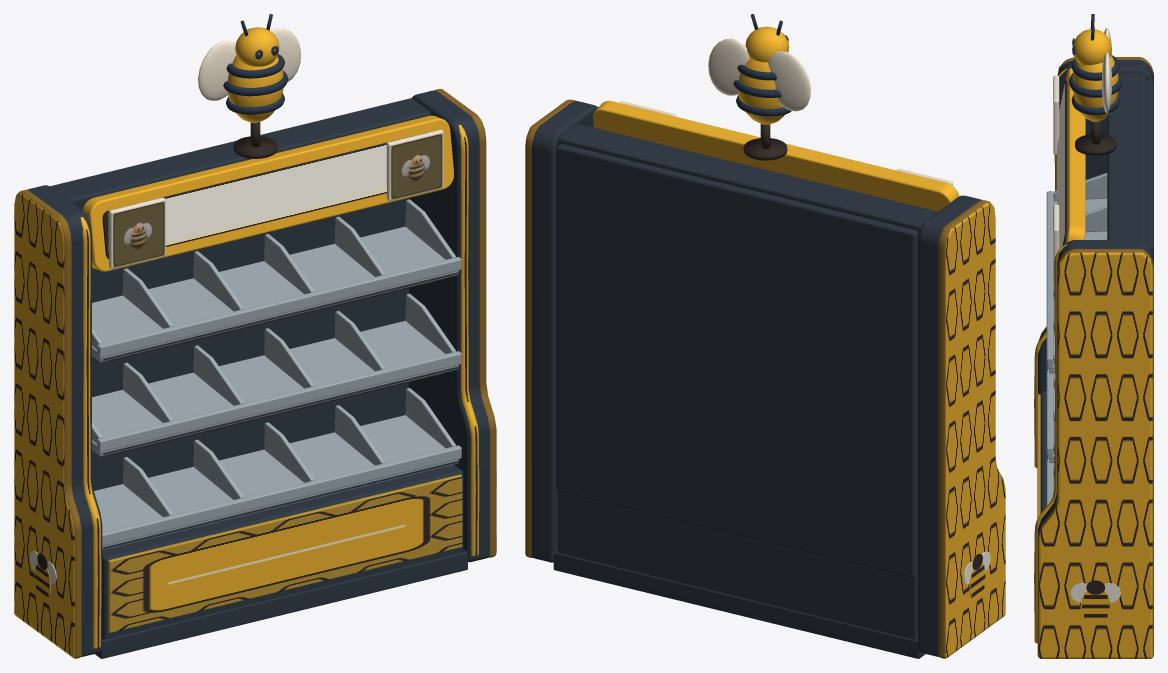
File: TH_HONEY_BEE.fbx
3 views of the same model, side by side, from view 1: azimuth 30°, elevation 25°; view 2: azimuth 150°, elevation 25°; view 3: azimuth 270°, elevation 25° (orthographic). The views are drawn at different scales.
Parts seen in each view (by area): view 1: BaseFrontInset, Left_PaintedPanel, BackPanel.001, Right_StructuralWall, Tray_01, Tray_02, Tray_03, HeaderFace, HeaderBorder, TopCrossRail, Left_StructuralWall, ClosedSolidBase (+36 smaller); view 2: BackPanel.001, Left_PaintedPanel, ClosedSolidBase, Right_StructuralWall, HeaderBorder, Left_StructuralWall, TopCrossRail, LowerPlinth, Right_PaintedPanel, Pearly bee wing, Pearly bee wing.001, Bee body (+2 smaller); view 3: Right_PaintedPanel, TopCrossRail, HeaderBorder, Left_StructuralWall, HeaderFace, FrontLip_01, BackPanel.001, RightHousing, Bee body, Bee head, Right_StructuralWall, ClosedSolidBase (+21 smaller).
Part boxes in pixels (x1,y1,x2,y2): BaseFrontInset: (108,474,462,632); Left_PaintedPanel: (14,190,81,658); BackPanel.001: (92,198,408,490); Right_StructuralWall: (409,90,489,562); Tray_01: (92,226,458,361); Tray_02: (92,321,458,456); Tray_03: (94,415,458,550); HeaderFace: (102,133,425,258); HeaderBorder: (82,115,453,271); TopCrossRail: (50,98,431,210); Left_StructuralWall: (27,185,102,656); ClosedSolidBase: (102,464,463,639); BackPanel.001: (556,144,918,578); Left_PaintedPanel: (938,200,1005,658); ClosedSolidBase: (558,492,917,639); Right_StructuralWall: (531,101,598,562); HeaderBorder: (593,100,959,211); Left_StructuralWall: (918,195,982,656); TopCrossRail: (557,124,937,235); LowerPlinth: (553,550,925,658); Right_PaintedPanel: (525,99,575,557); Pearly bee wing: (768,51,810,111); Pearly bee wing.001: (708,38,749,95); Bee body: (738,58,784,124); Right_PaintedPanel: (1037,249,1153,658); TopCrossRail: (1107,73,1145,241); HeaderBorder: (1065,68,1085,243); Left_StructuralWall: (1037,59,1153,394); HeaderFace: (1057,80,1067,248); FrontLip_01: (1046,191,1053,368); BackPanel.001: (1146,80,1153,255); RightHousing: (1034,244,1066,643); Bee body: (1073,55,1118,121); Bee head: (1073,29,1111,65); Right_StructuralWall: (1037,240,1153,534); ClosedSolidBase: (1040,391,1046,513).
Size of the model in its own units: 3.62 by 4.68 by 0.9273.
